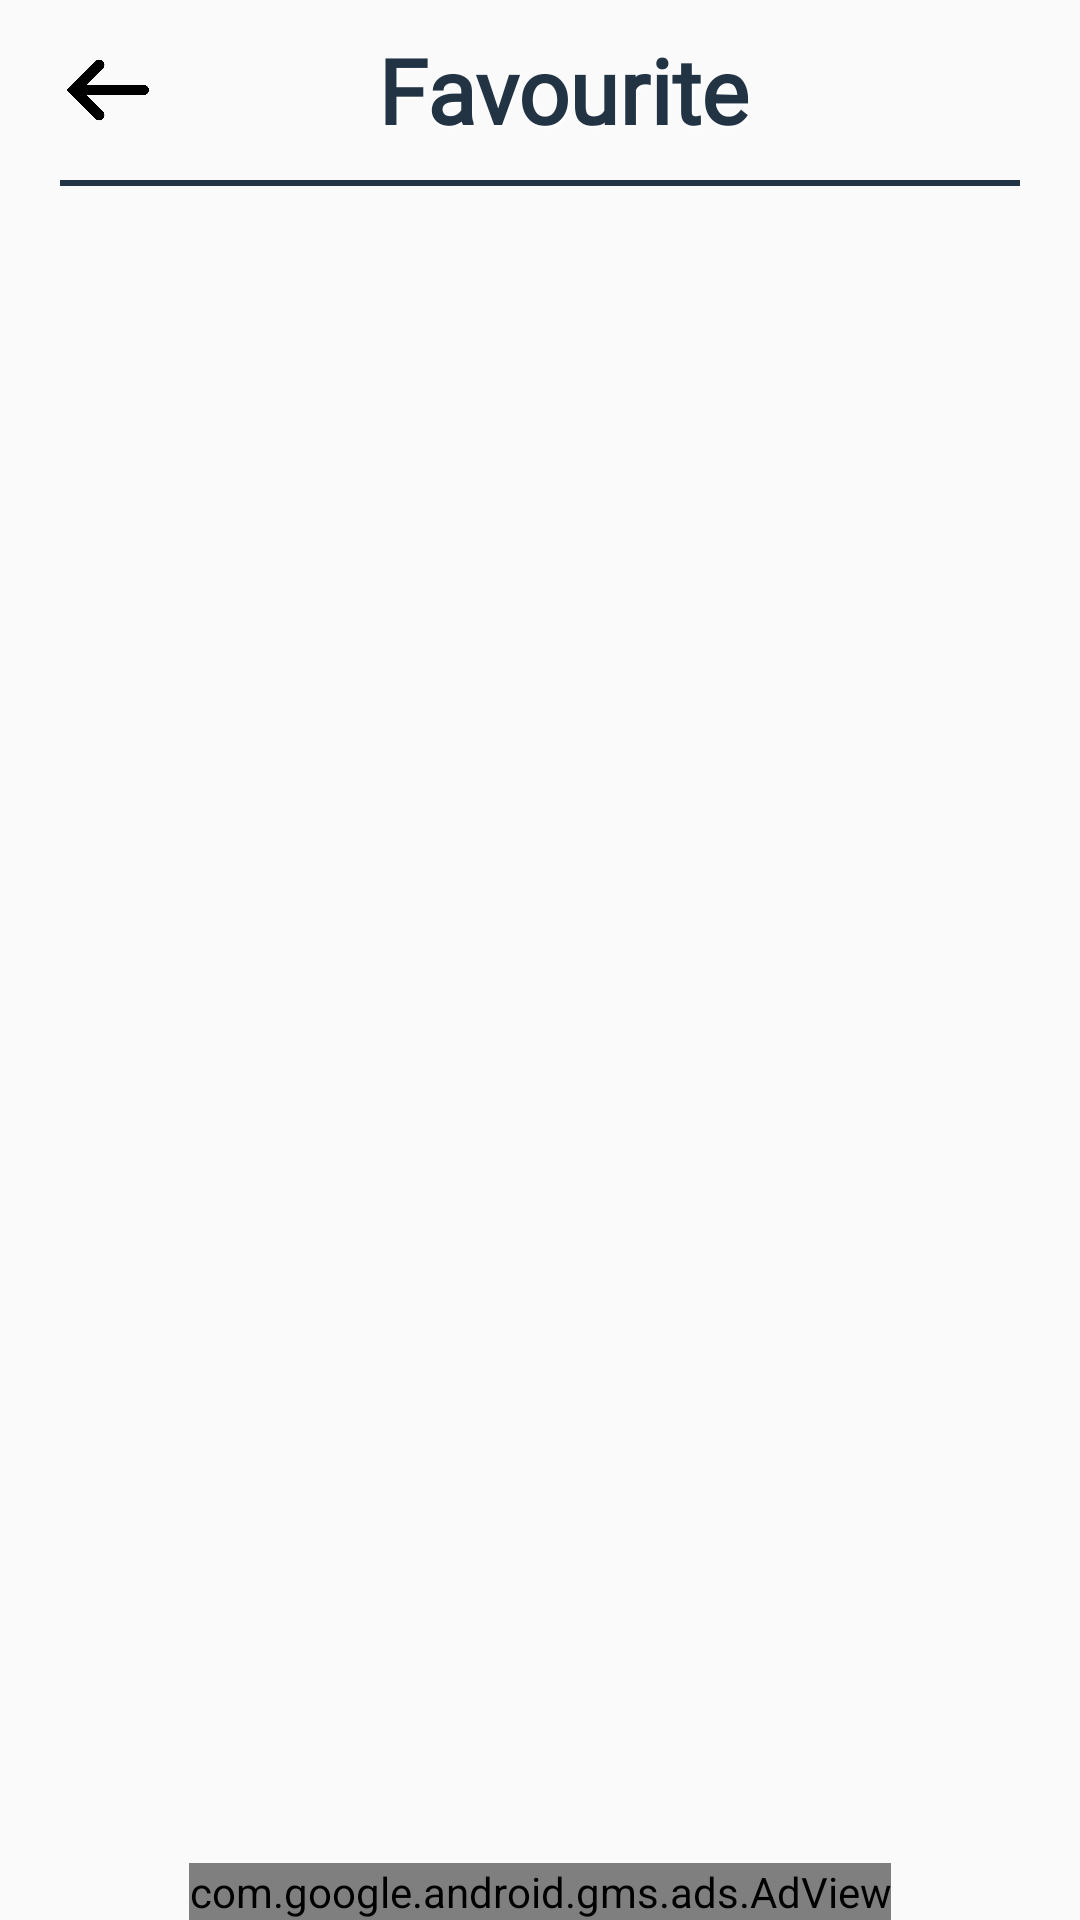

Where to tap for icons on this 1080px×1920px app screen, as point (x, y):
back: point (108, 90)
